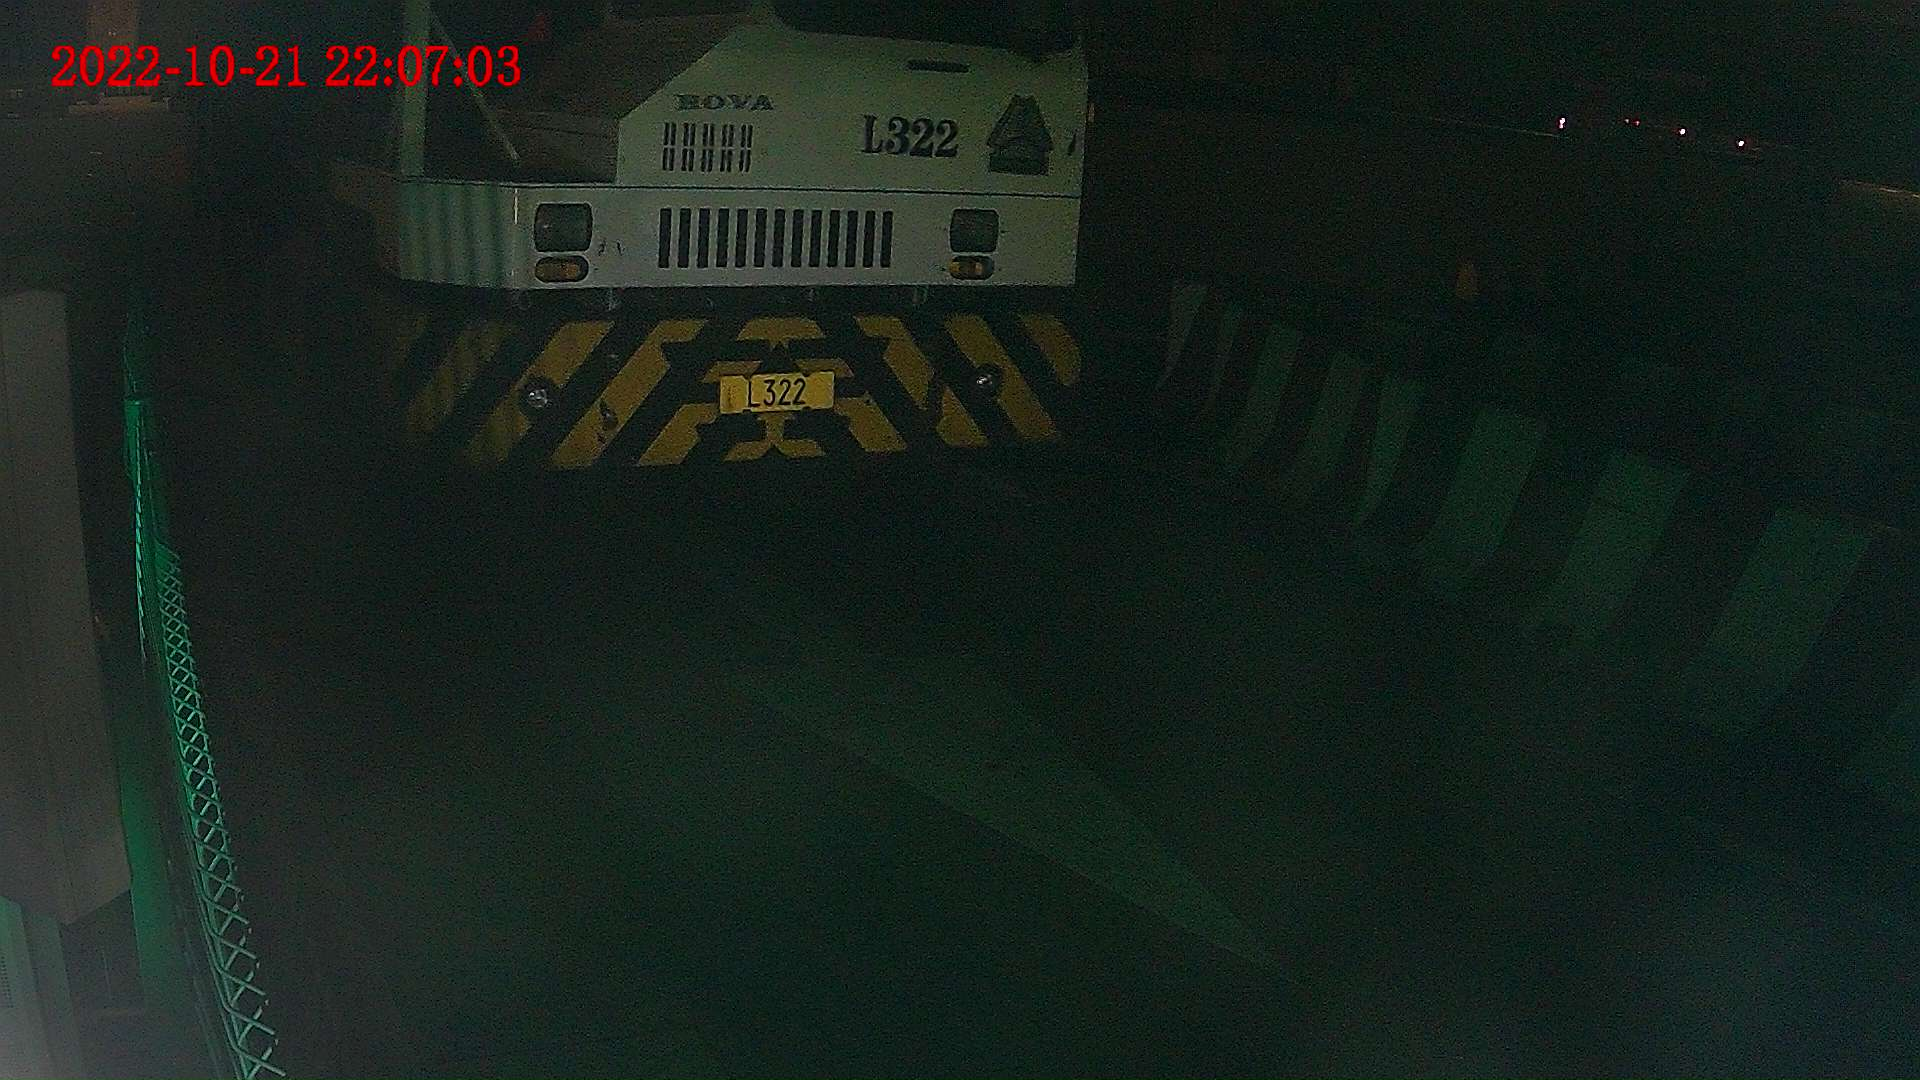head: (365, 1, 1089, 484)
plate: (721, 367, 825, 409)
